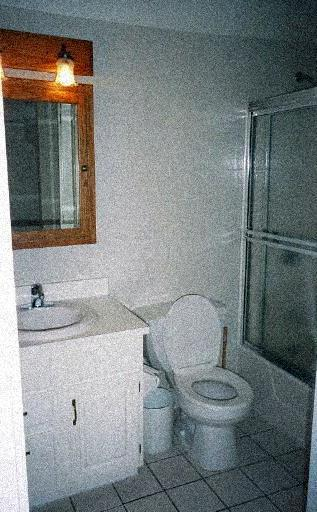Bote de Basura: (137, 386, 171, 454)
Ducha: (236, 95, 310, 376)
Lavamanos: (18, 275, 102, 348)
Sanitario: (142, 293, 245, 467)
